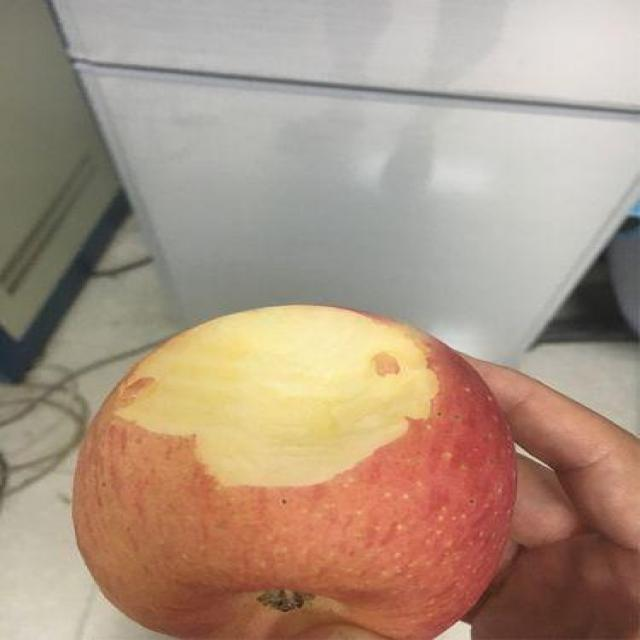Rotten: (62, 301, 529, 640)
